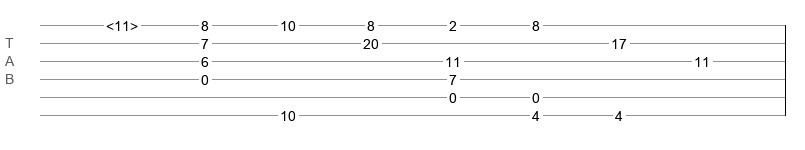0: (201, 72, 209, 82), (449, 90, 457, 100), (532, 90, 540, 100)
10: (280, 108, 296, 118), (280, 18, 296, 28)
11: (445, 54, 461, 64), (694, 54, 710, 64)
17: (611, 36, 627, 46)
2: (449, 18, 457, 28)
20: (363, 36, 379, 46)
4: (532, 108, 540, 118), (615, 108, 623, 118)
6: (201, 54, 209, 64)
7: (201, 36, 209, 46), (449, 72, 457, 82)
8: (201, 18, 209, 28), (367, 18, 375, 28), (532, 18, 540, 28)
harmonic: (106, 18, 138, 28)
